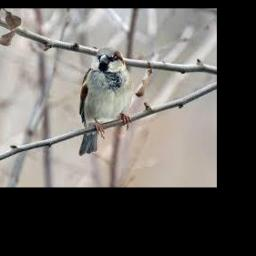Sparrow: (78, 47, 131, 155)
